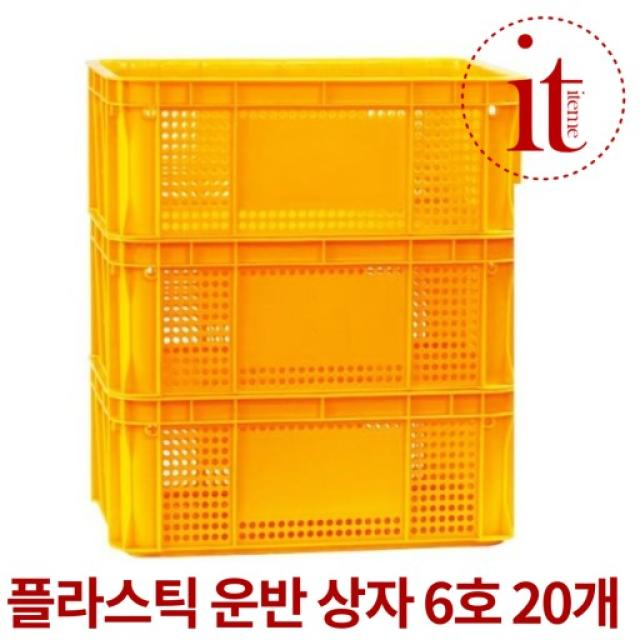basket: (87, 53, 526, 557)
